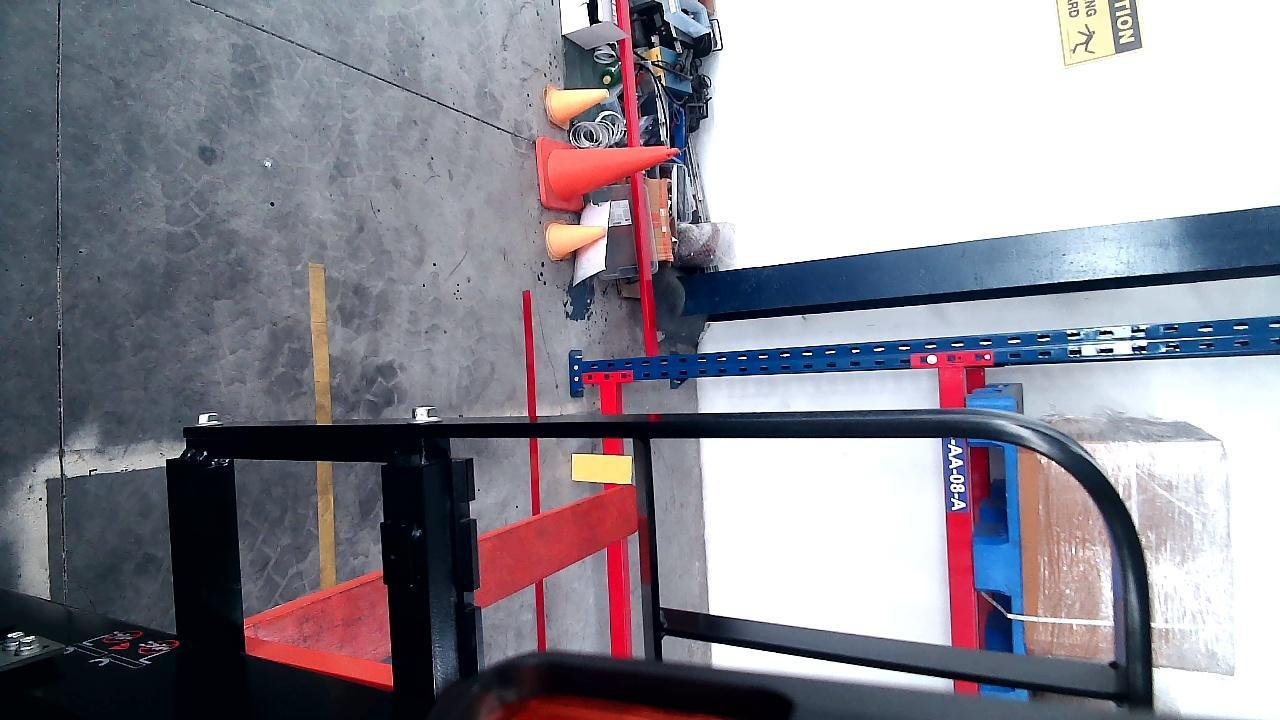red_line: (520, 288, 550, 653)
yellow_line: (302, 262, 338, 582)
